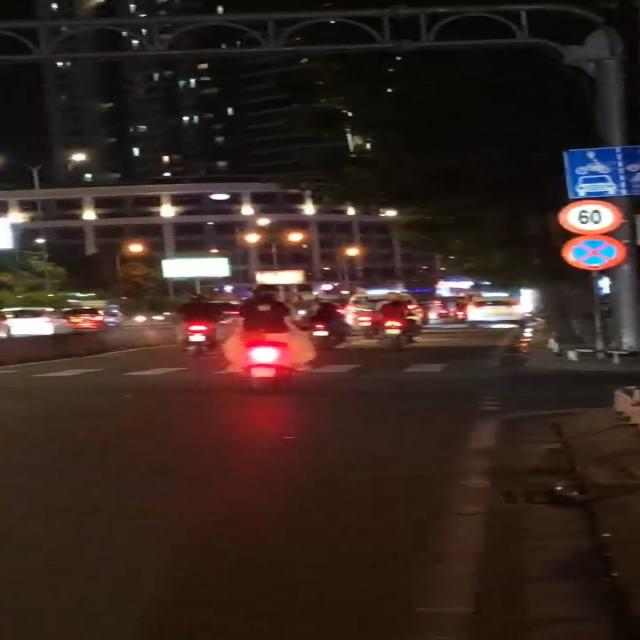Bien bao cam dung xe va do xe: (554, 234, 630, 272)
Bien bao toc do toi da cho phep: (551, 196, 626, 235)
